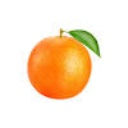orange: (27, 26, 102, 101)
